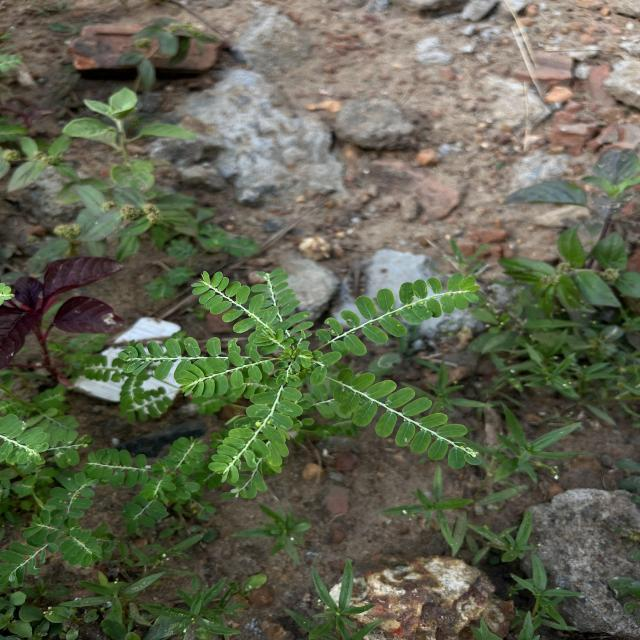Phyllanthus niruri: (332, 366, 484, 471), (315, 271, 485, 357), (206, 381, 304, 486), (186, 269, 288, 348), (175, 351, 278, 398)
